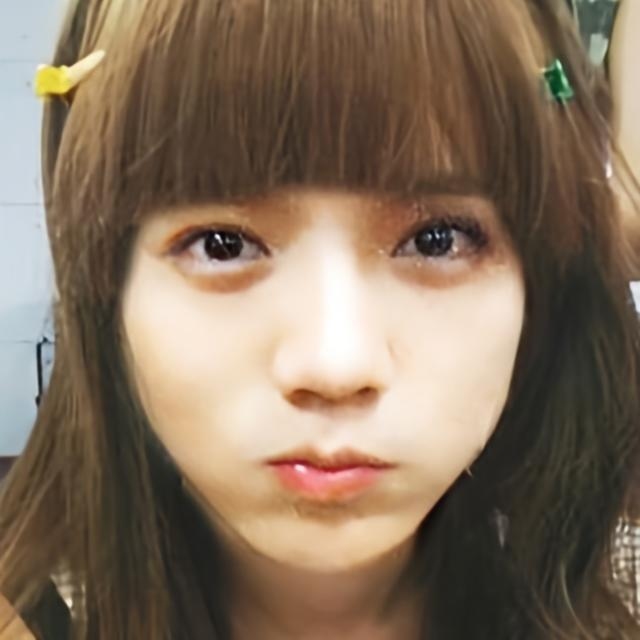neutral: (120, 62, 530, 575)
